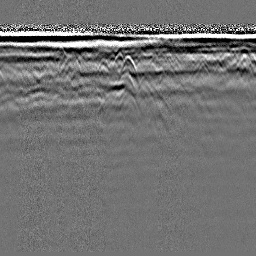cavity: (119, 54, 138, 76)
